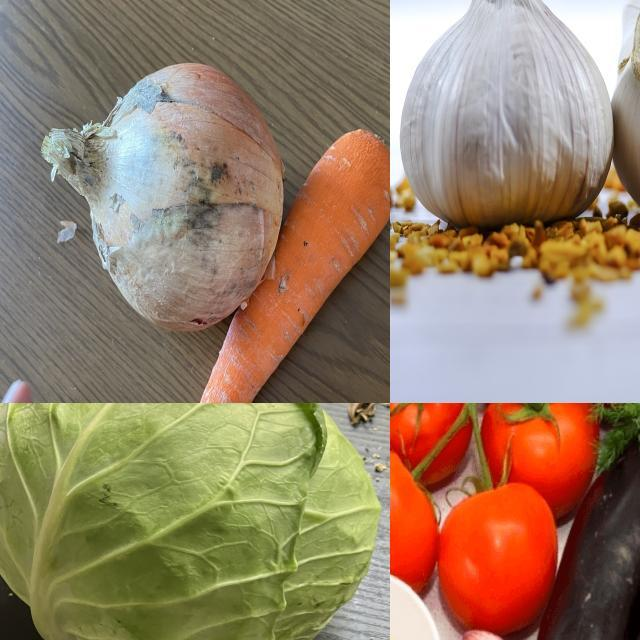cabbage: (1, 404, 383, 640)
carrot: (182, 126, 391, 404)
eggplant: (544, 469, 640, 640)
garlic: (402, 1, 613, 214), (454, 626, 536, 640)
onion: (41, 59, 293, 333)
tomato: (437, 492, 553, 632), (493, 404, 586, 503), (391, 450, 435, 585), (391, 404, 460, 458)
